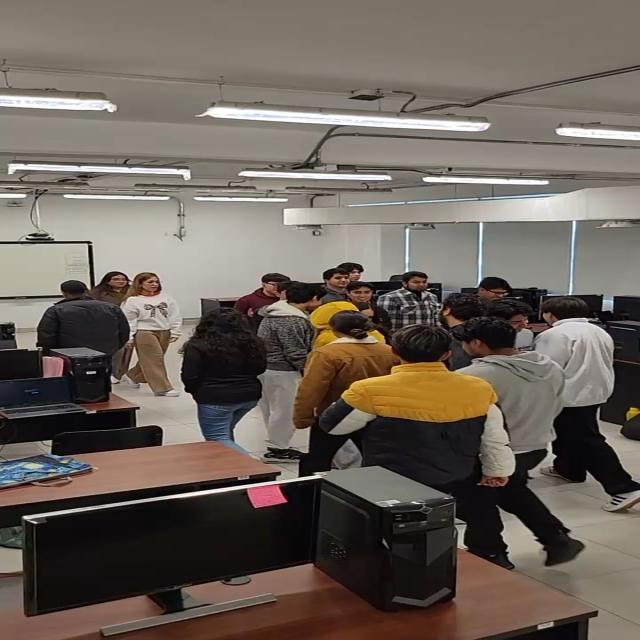Persona: (376, 331, 498, 491), (471, 316, 568, 503), (548, 297, 632, 491), (49, 271, 122, 388), (128, 274, 195, 398), (202, 306, 254, 444), (315, 311, 400, 388), (87, 264, 131, 300)
